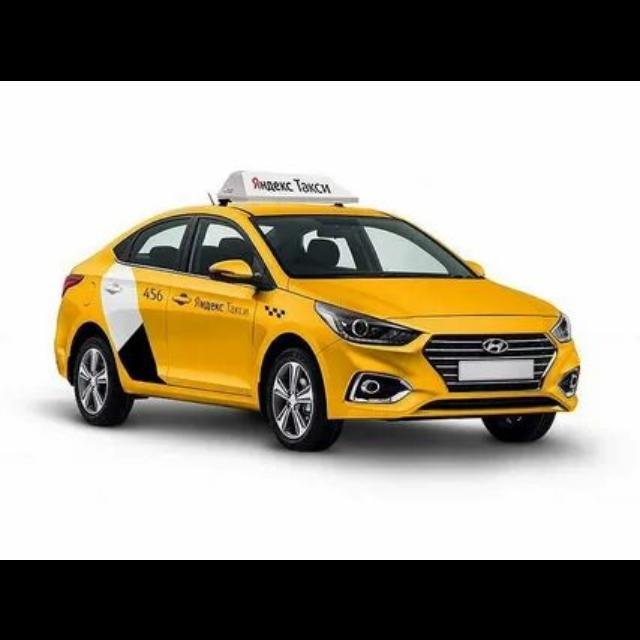taxi: (54, 168, 581, 452)
